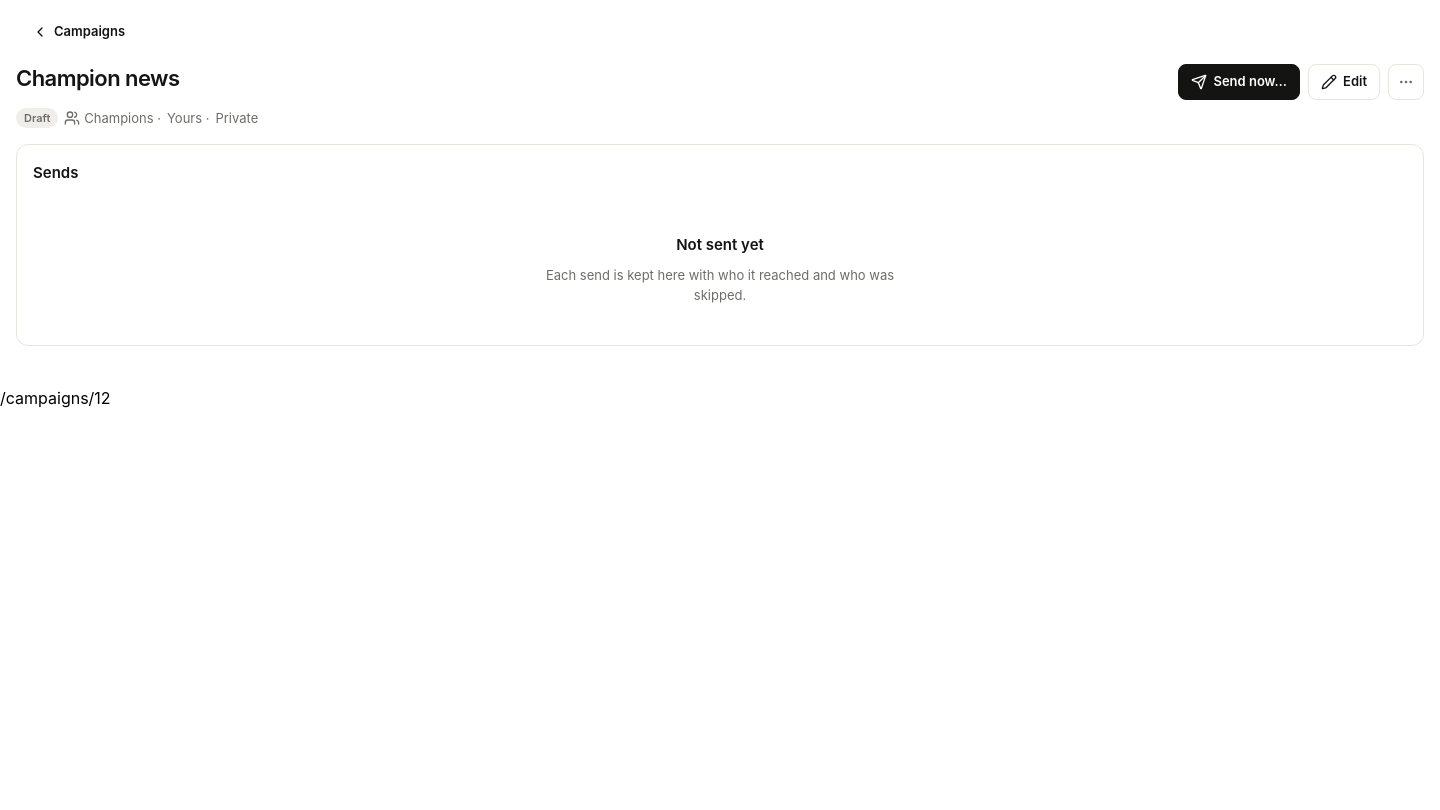
it: Send now… on a campaign page (spec §2.3) › keeps EMAIL_NOT_SET_UP at the Send button, focused, and stays open
Click the button "Send now…": x=1239, y=82 [1178,64,1300,100]
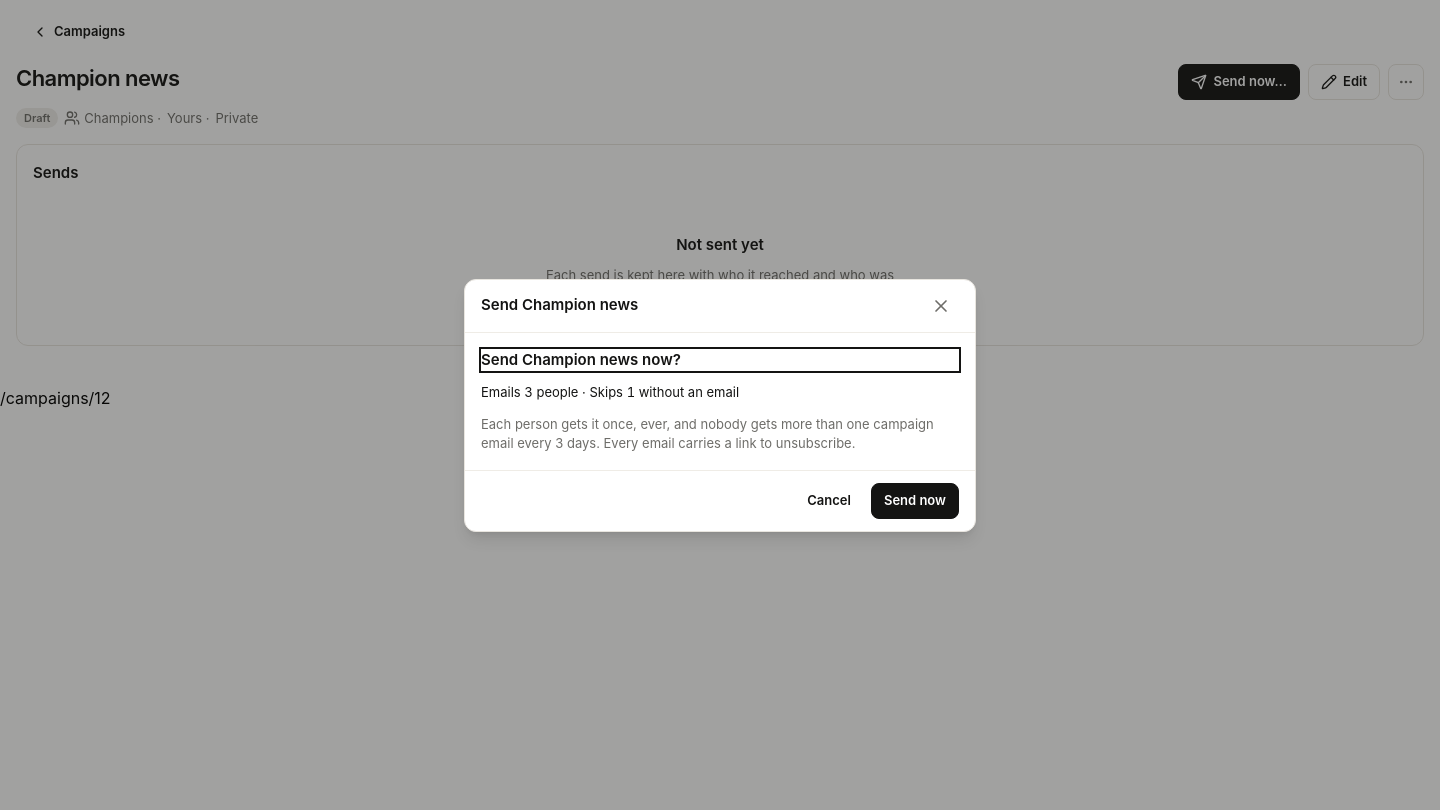
Click the button "Send now": x=915, y=500 [871,482,959,518]
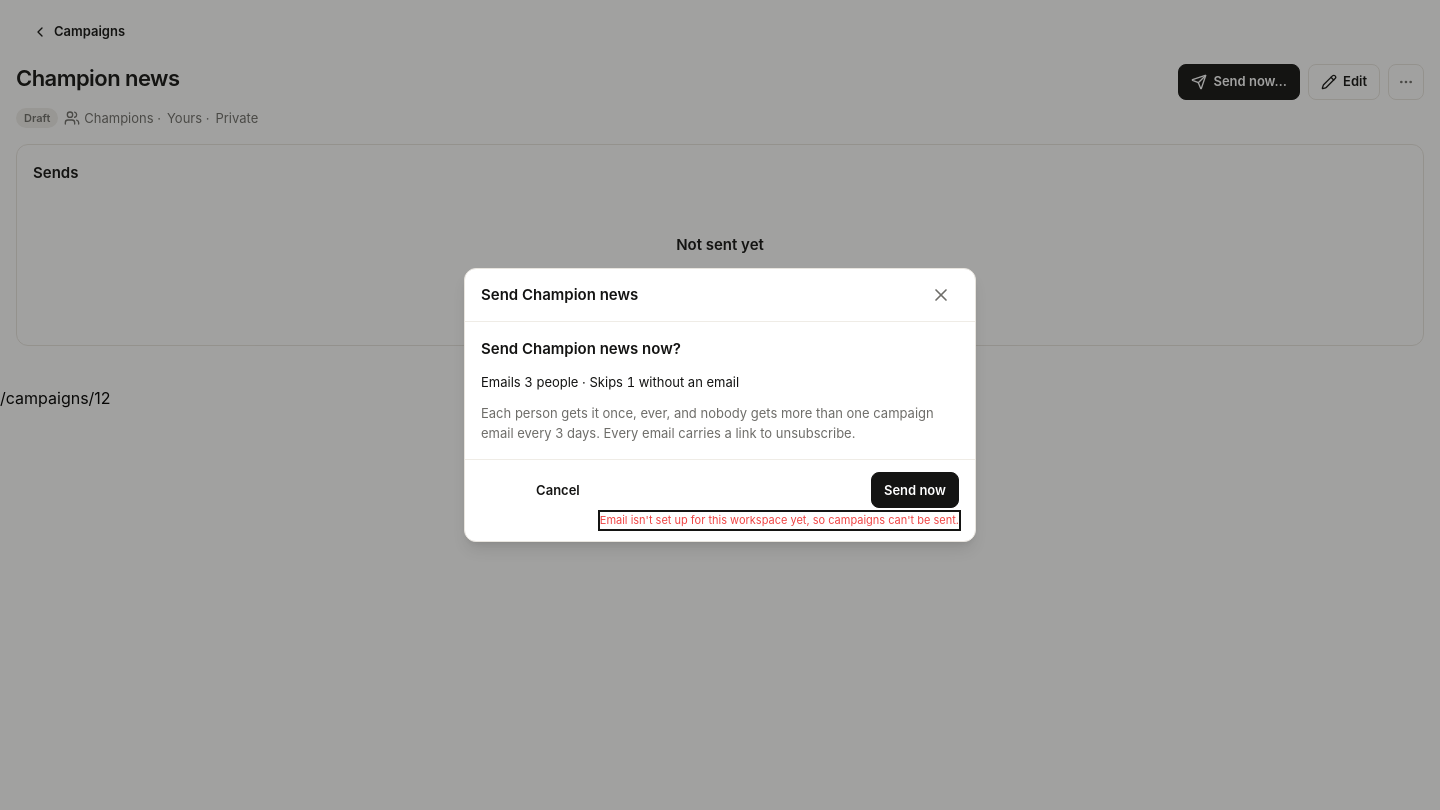
Expected: the text with test id "where" reads "/campaigns/12", [0,388,111,408]
Now the message reads "Email isn't set up for this workspace yet, so campaigns can't be sent.", box [600,513,959,527]
